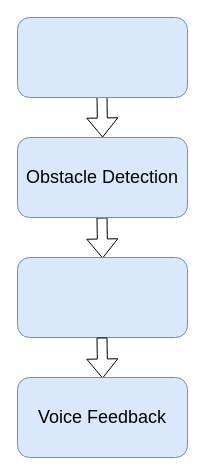
The diagram is 205 pixels wide and 475 high, and some of its shapes have lost their labels. Here are the shapes that lost their labels. From the top down, the centre of each, then its label:
point (102, 57): Image
point (102, 297): Object Detection
